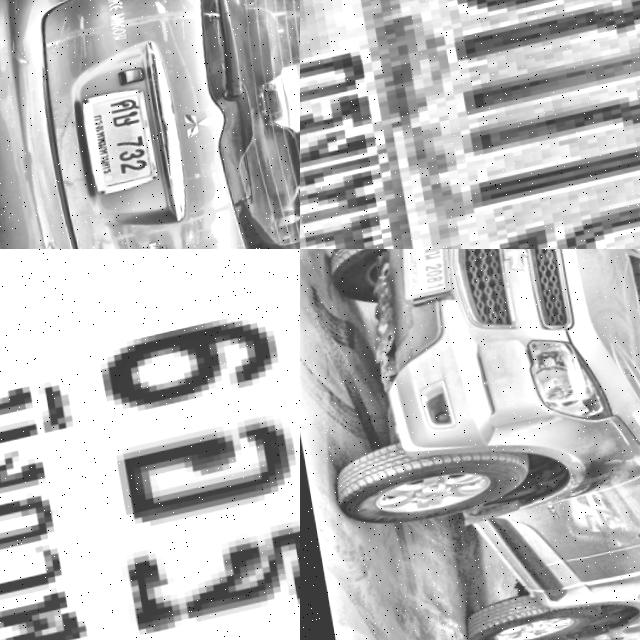license-plate: (0, 249, 300, 640), (300, 0, 640, 249), (69, 85, 159, 207), (395, 249, 458, 305)
